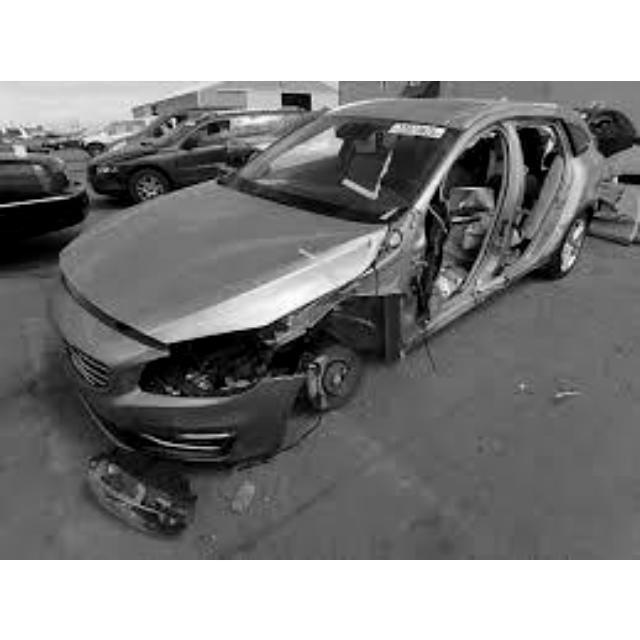Headlight-damage: (139, 330, 272, 401)
doorouter-dent: (416, 137, 509, 297)
